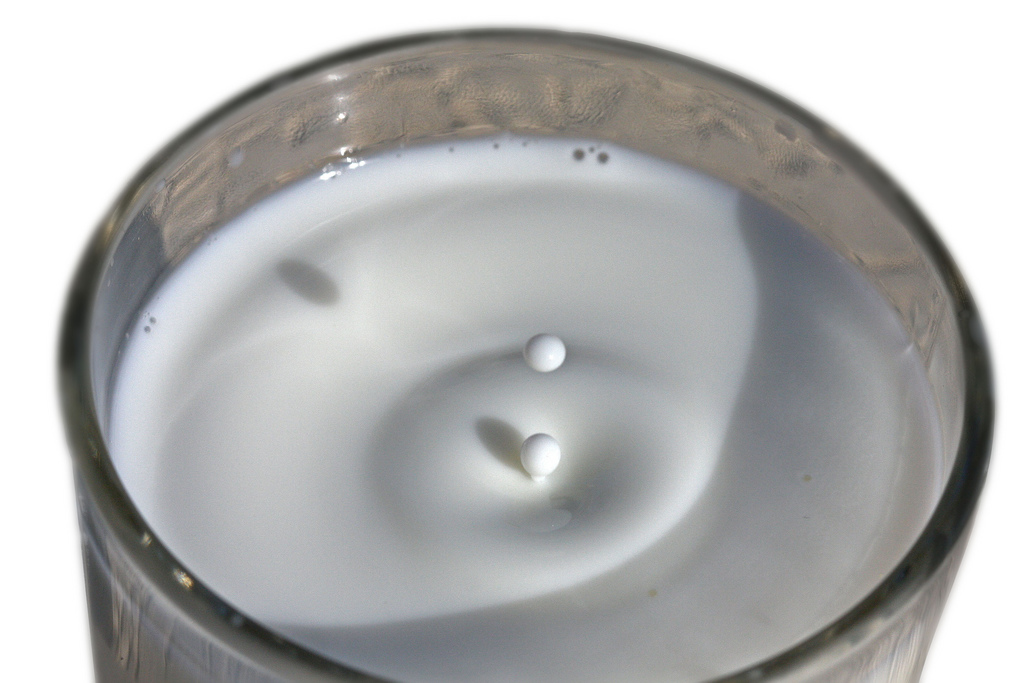glass of milk: (119, 92, 966, 683)
